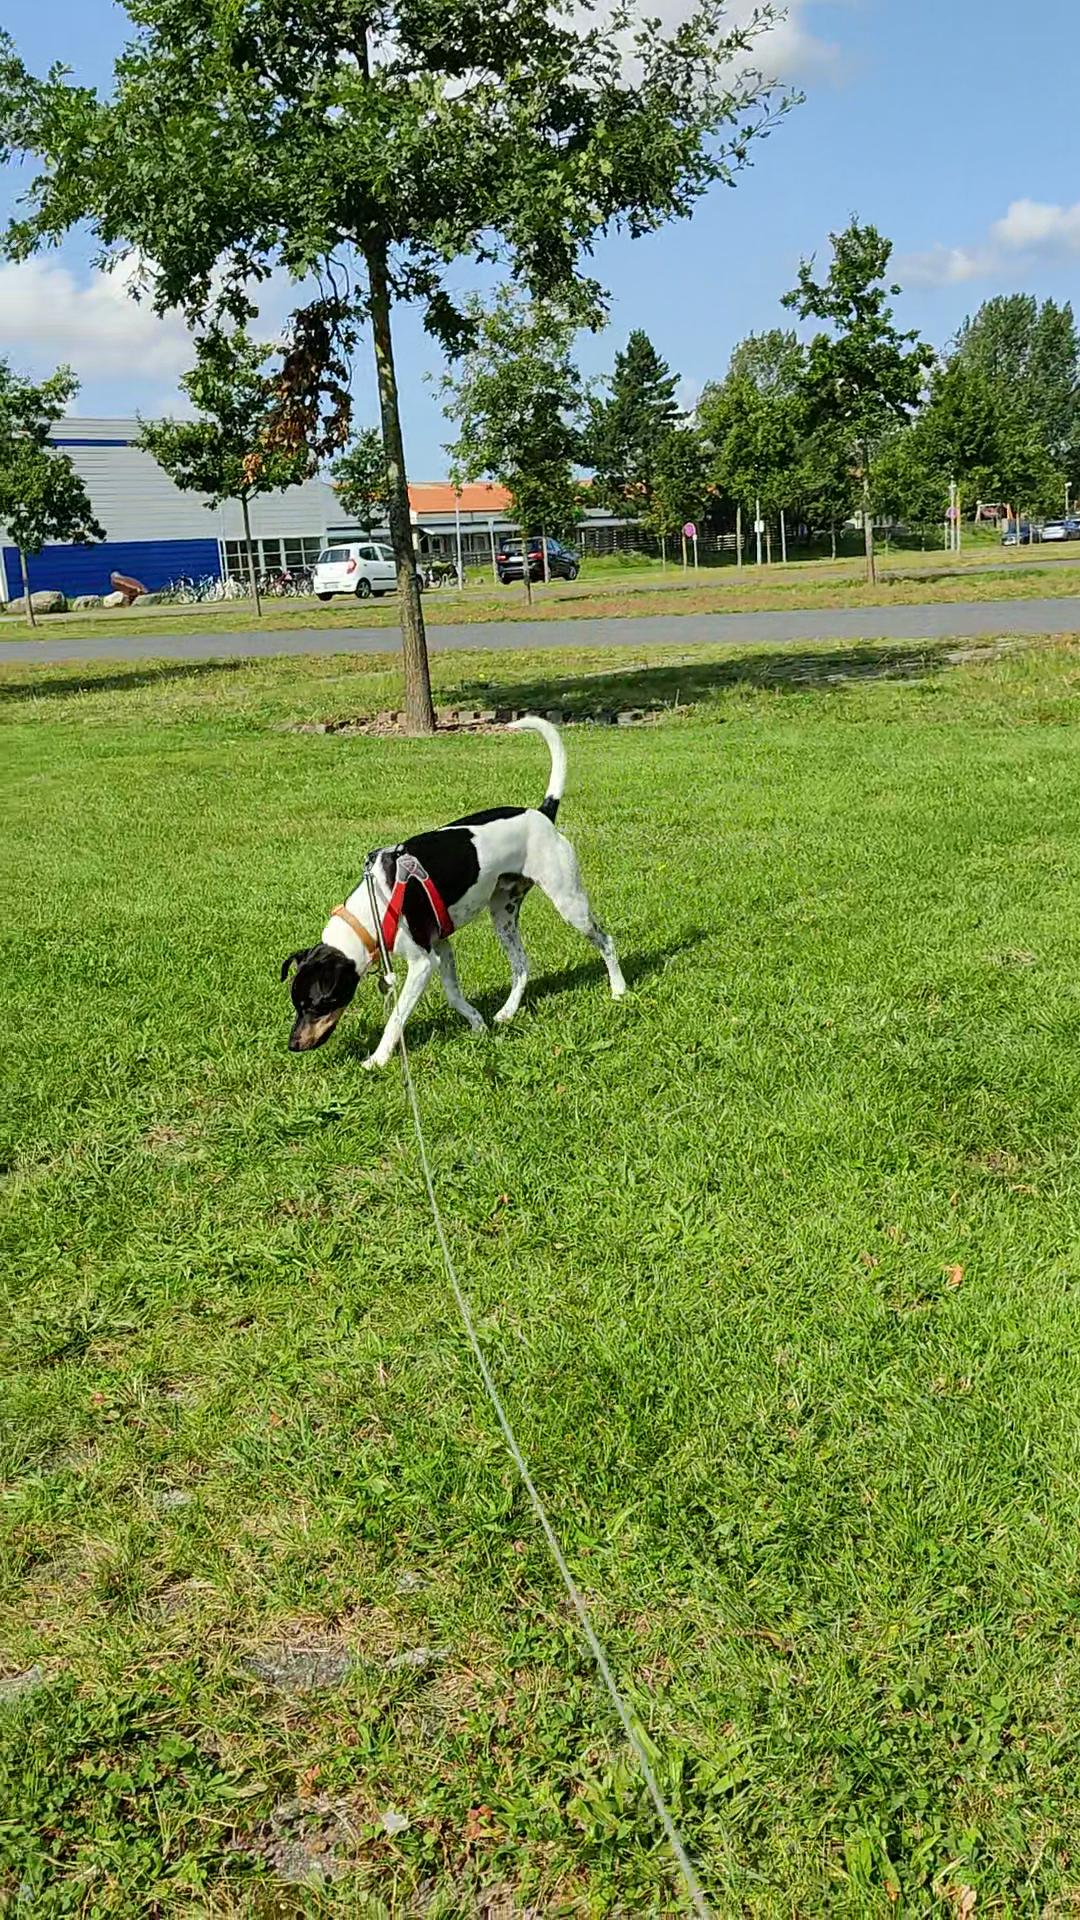Dog: (270, 712, 633, 1077)
